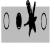correct: (15, 10, 23, 33)
not correct: (24, 0, 37, 38)
